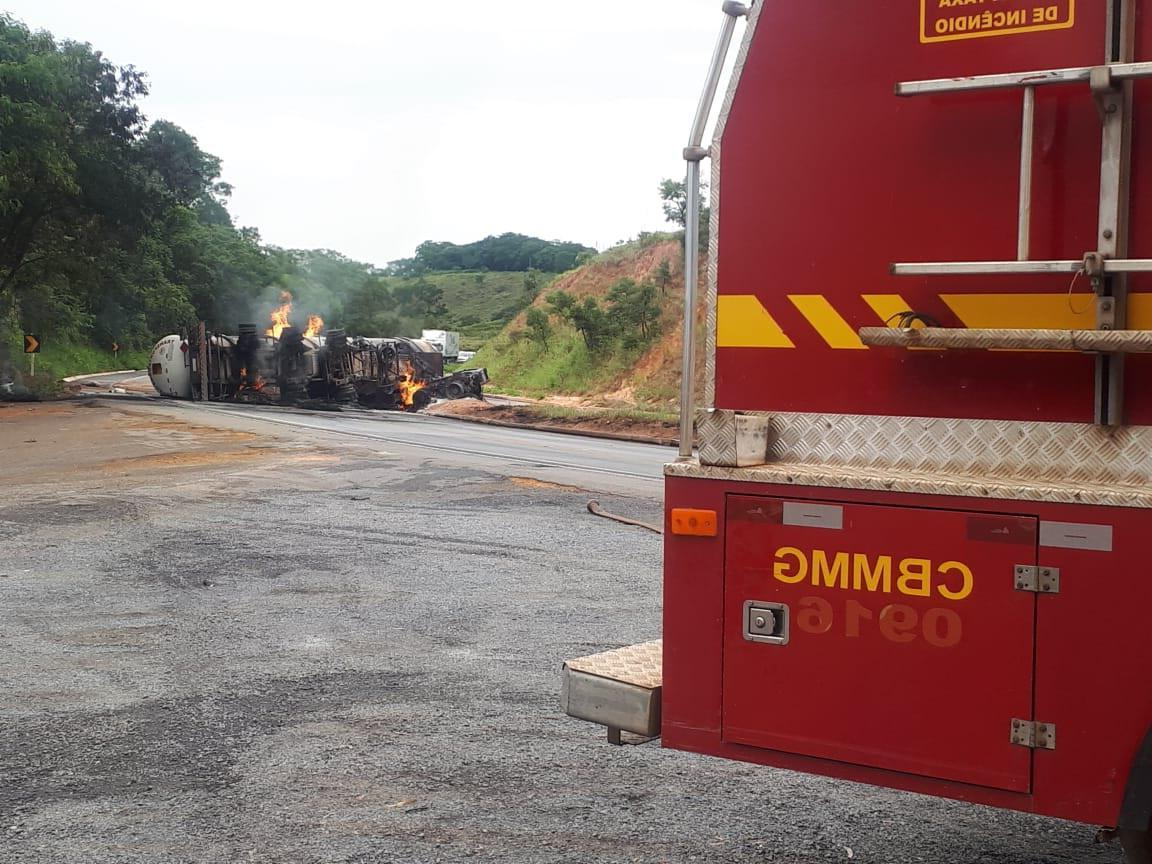Fire: (395, 365, 431, 406), (266, 294, 298, 339), (300, 314, 327, 338)
